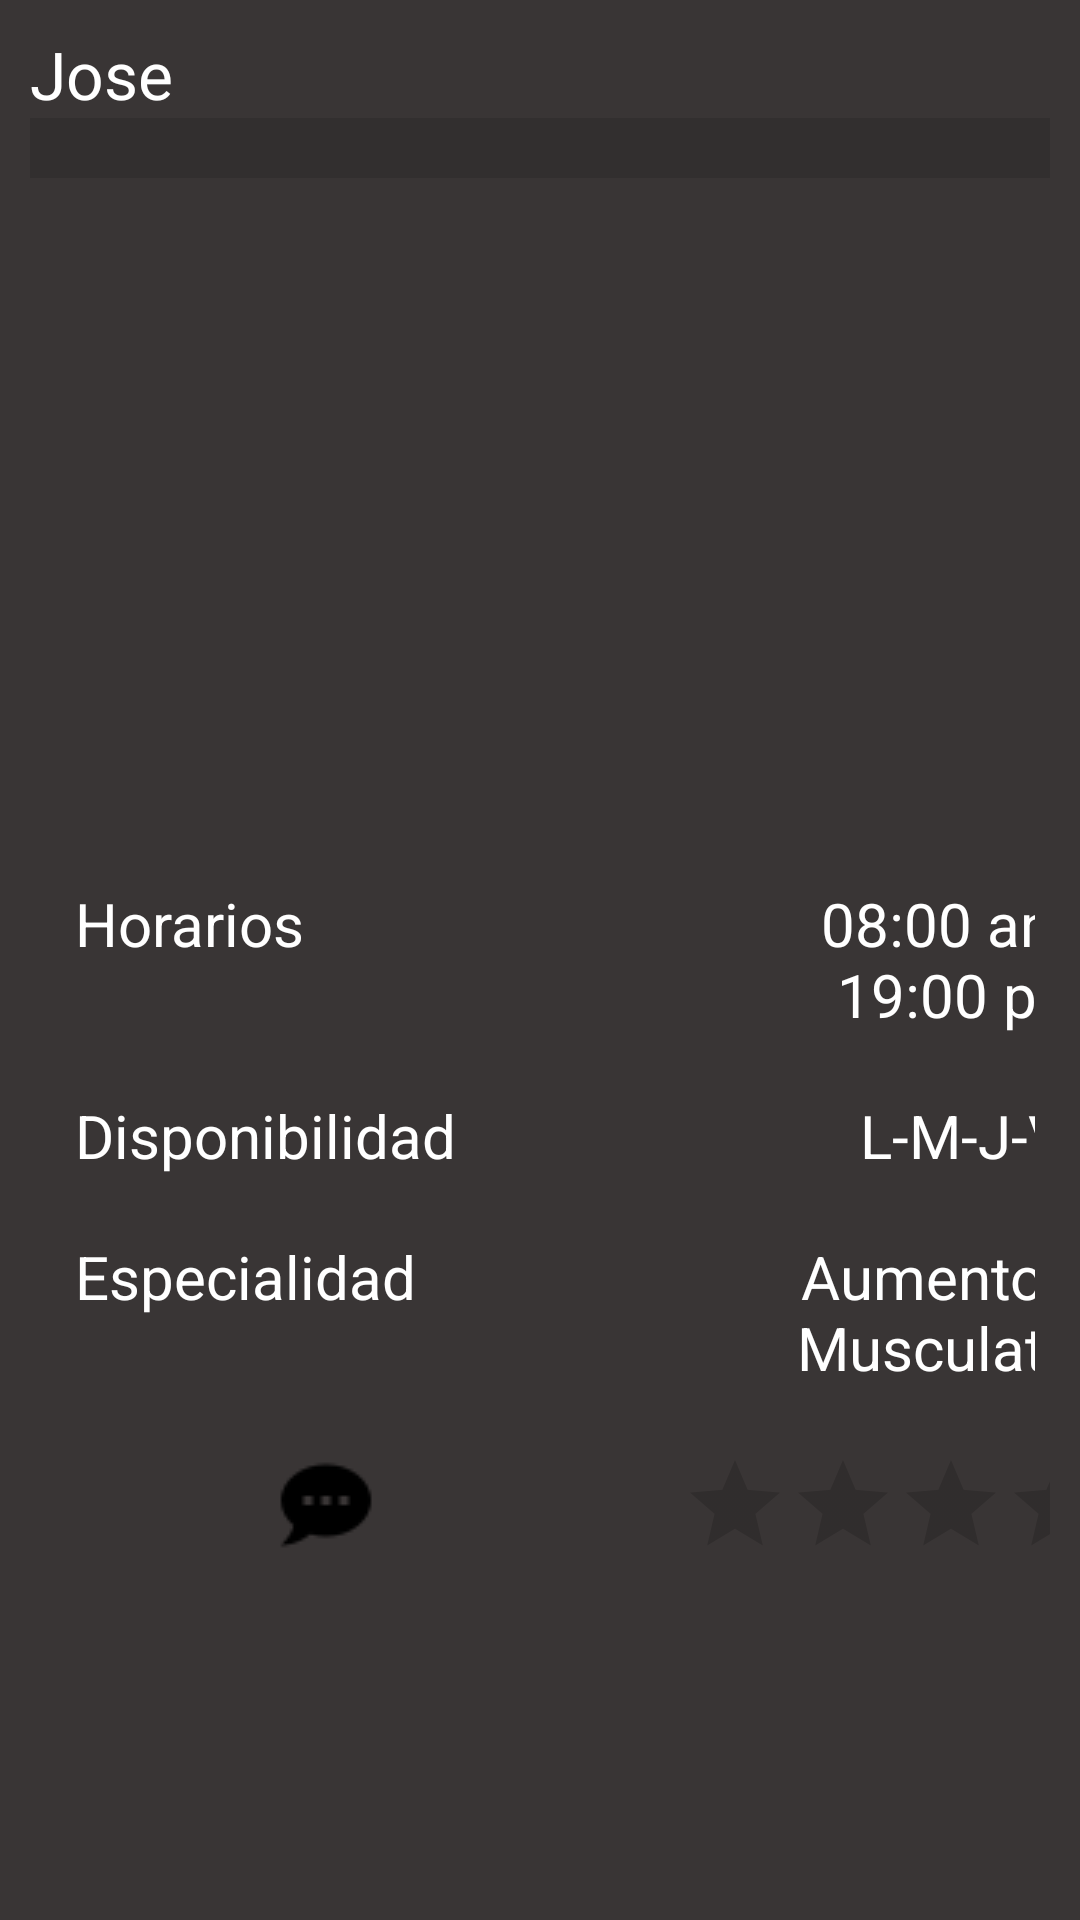

Screen size 1080*1920. Icon name, then its center in pixels as [x,y]:
chat: [326,1504]
